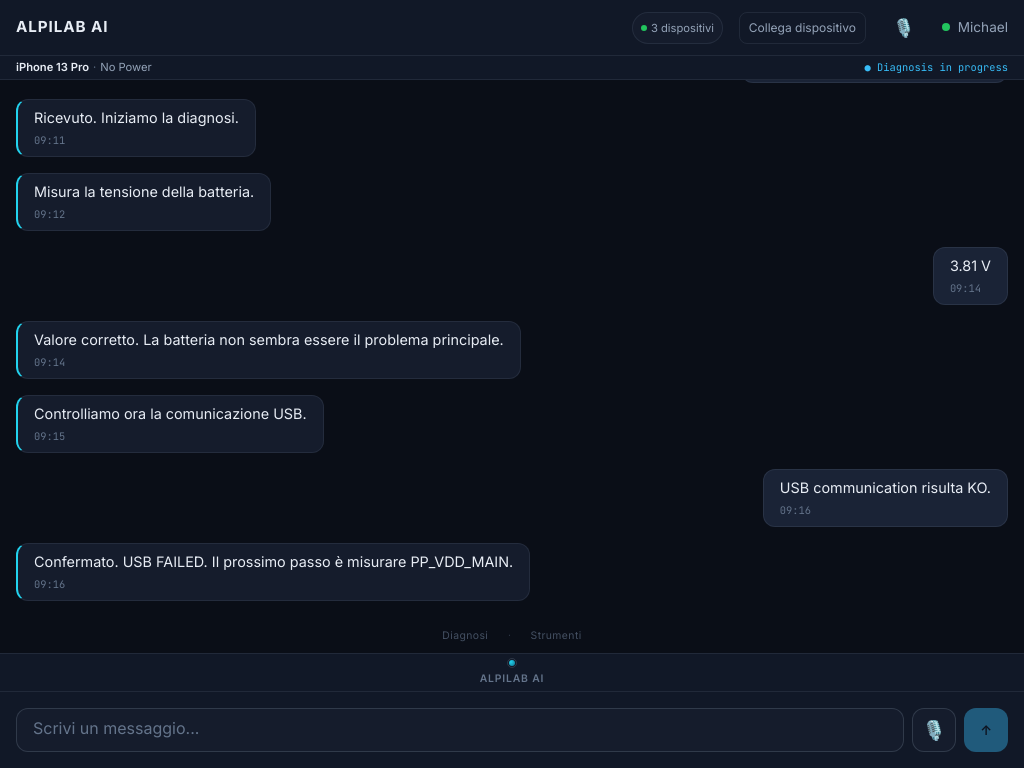
Scenario: HomePage V0.3.1 core states › shows STO ASCOLTANDO... during voice simulation
(page scrolled)
Click the button named "Microfono" at (934,730), box [912, 708, 956, 752]
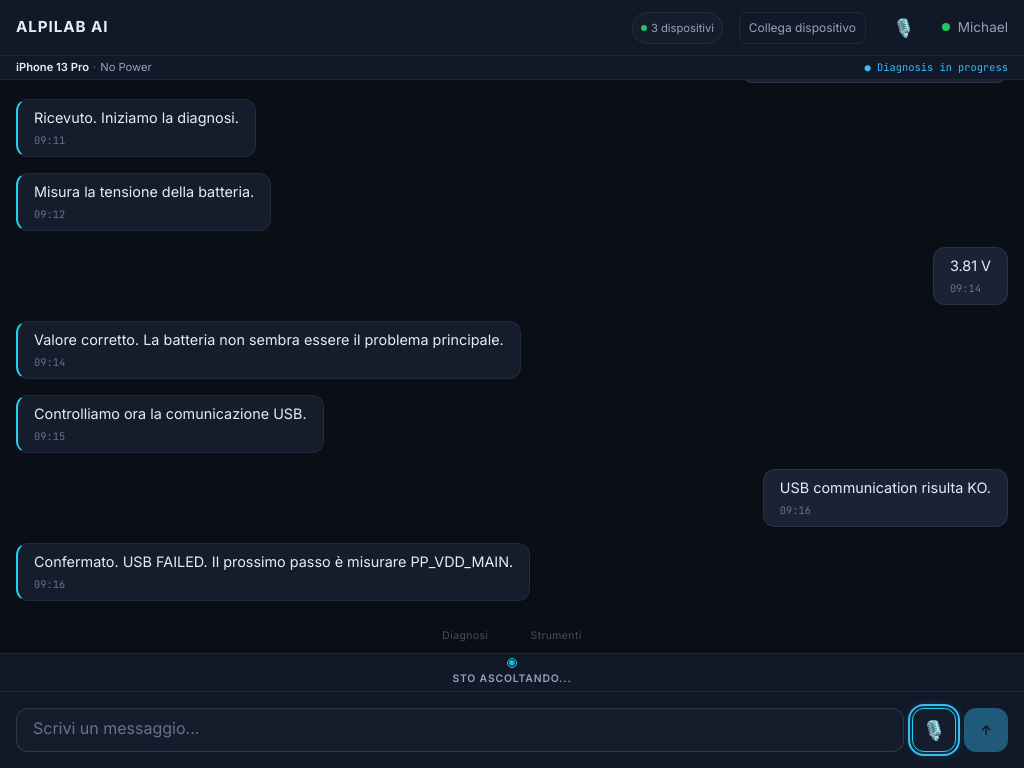
Result: the text with test id "core-status-label" reads "STO ASCOLTANDO..." at [452, 672, 572, 685]
